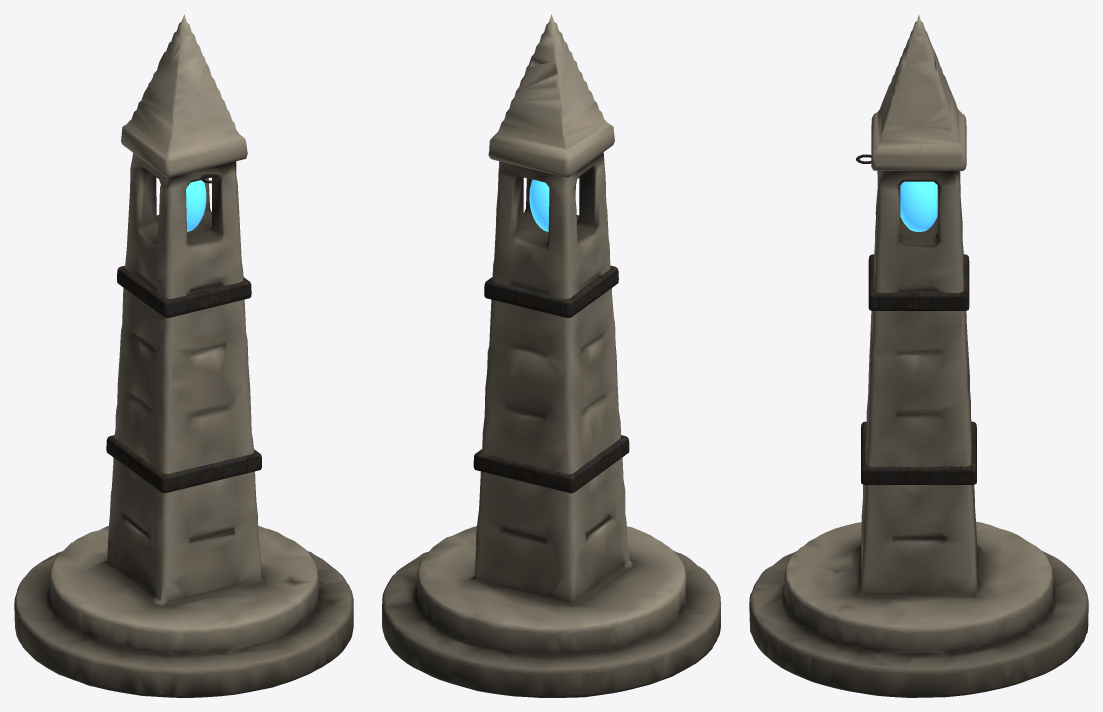
The model's file is needle_bell.glb.
3 renders of one model, left to right at view 1: azimuth 30°, elevation 25°; view 2: azimuth 150°, elevation 25°; view 3: azimuth 270°, elevation 25°, orthographic.
Visible parts, largest first — view 1: needle_bell_stone, needle_bell_ironstone, needle_bell_accent; view 2: needle_bell_stone, needle_bell_ironstone, needle_bell_accent; view 3: needle_bell_stone, needle_bell_ironstone, needle_bell_accent.
Part boxes in pixels (x1,y1,x2,y2): needle_bell_stone: (14, 14, 353, 697); needle_bell_ironstone: (106, 174, 261, 493); needle_bell_accent: (186, 180, 206, 231); needle_bell_stone: (382, 14, 720, 697); needle_bell_ironstone: (473, 265, 629, 493); needle_bell_accent: (529, 179, 549, 231); needle_bell_stone: (749, 15, 1088, 697); needle_bell_ironstone: (856, 154, 976, 484); needle_bell_accent: (900, 181, 937, 231).
Size of the model in its own units: 3.24 by 6.48 by 3.24.
Materials: 3 (2 with a texture image).
